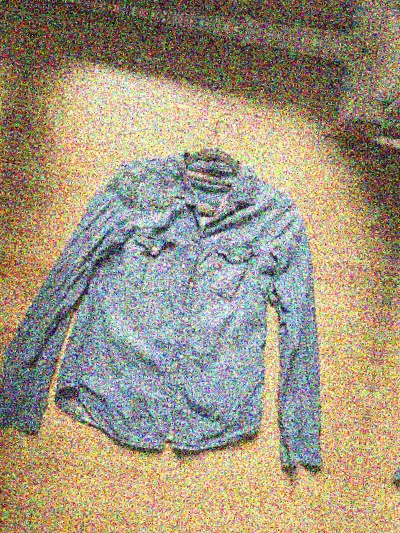Blazer: (0, 82, 398, 510), (367, 150, 400, 533), (0, 17, 17, 445)
